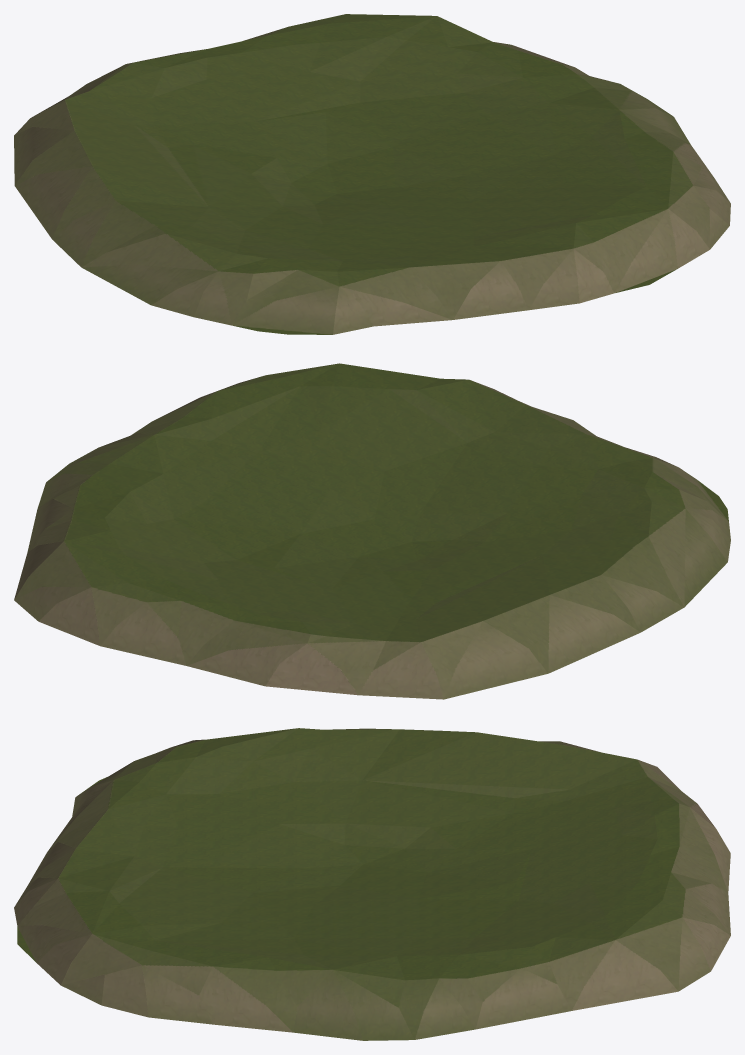
The model's file is SM_Env_Ground_Mound_Large_02.glb.
The picture shows the model from 3 angles, top to bottom: view 1: azimuth 30°, elevation 25°; view 2: azimuth 150°, elevation 25°; view 3: azimuth 270°, elevation 25°; orthographic projection. The views are drawn at different scales.
Visible parts, largest first — view 1: SM_Env_Ground_Mound_Large_02; view 2: SM_Env_Ground_Mound_Large_02; view 3: SM_Env_Ground_Mound_Large_02.
Boxes of the visible parts, bbox=[...] form: SM_Env_Ground_Mound_Large_02: bbox=[14, 14, 730, 334]; SM_Env_Ground_Mound_Large_02: bbox=[14, 363, 730, 699]; SM_Env_Ground_Mound_Large_02: bbox=[14, 728, 730, 1040].
Size of the model in its own units: 39.41 by 2.62 by 39.23.
Materials: 1 (1 with a texture image).
